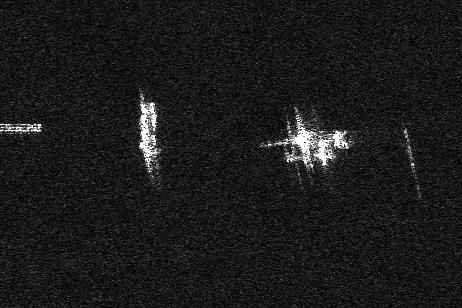ship: (137, 101, 162, 170)
